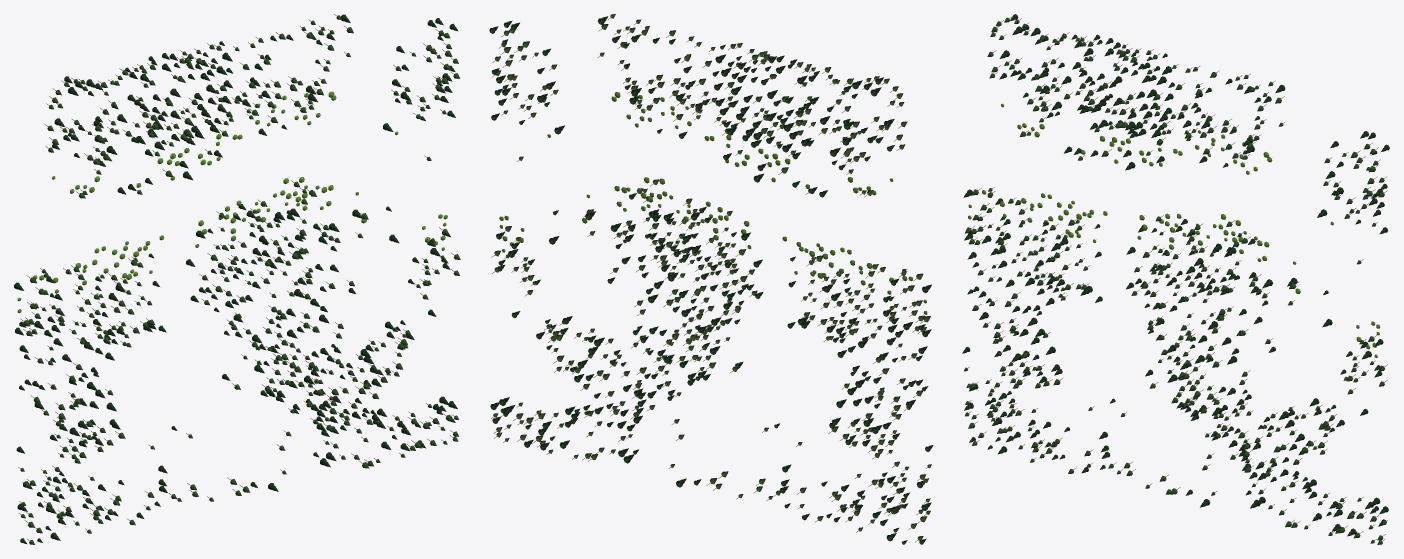
Rendered from forest_9.obj.
The picture shows the model from 3 angles, left to right: view 1: azimuth 30°, elevation 25°; view 2: azimuth 150°, elevation 25°; view 3: azimuth 330°, elevation 25°; orthographic projection. The views are drawn at different scales.
Size of the model in its own units: 555 by 555 by 60.47.
